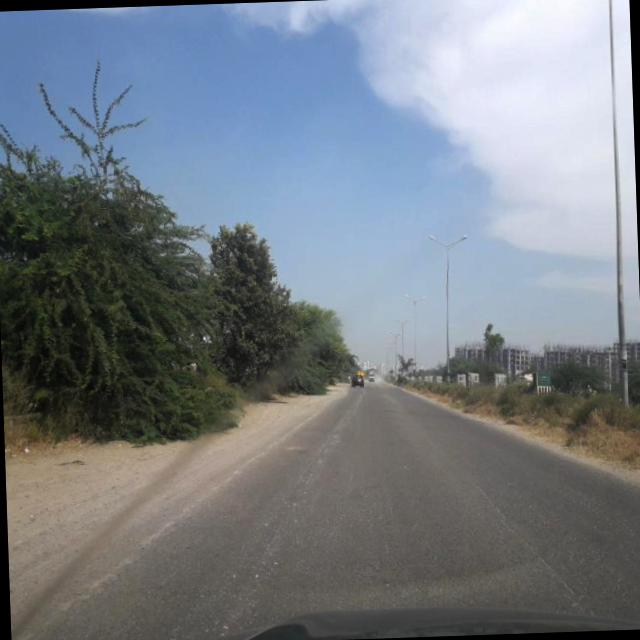crack: (467, 468, 576, 594)
